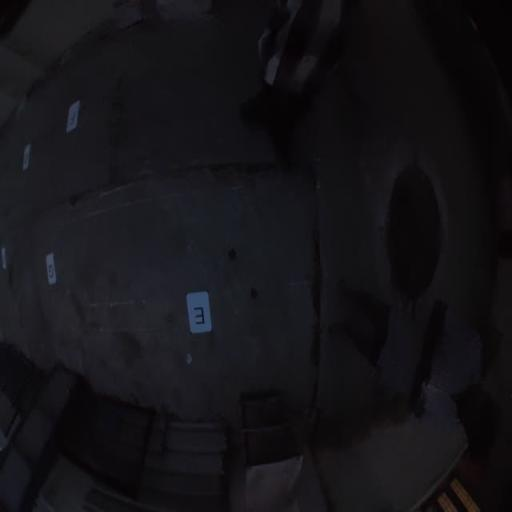E: (186, 291, 212, 334)
F: (65, 100, 80, 134)
G: (45, 252, 57, 286)
